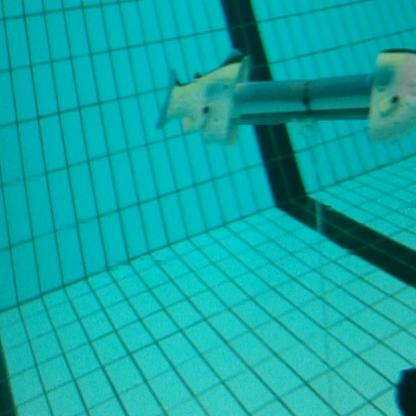tail: (156, 46, 253, 148)
